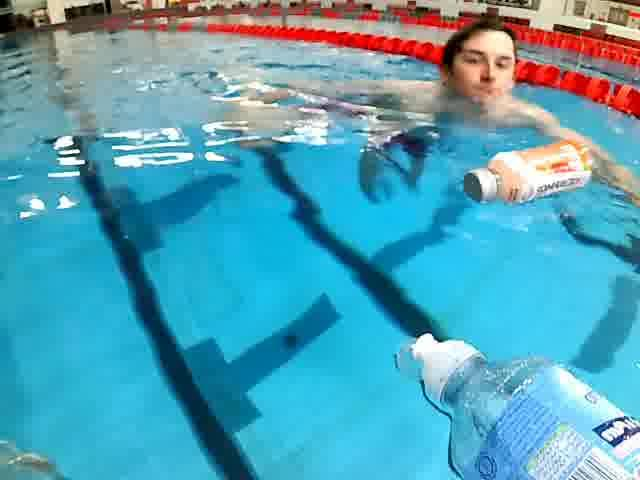Bottle: (404, 322, 640, 480), (460, 138, 597, 212)
